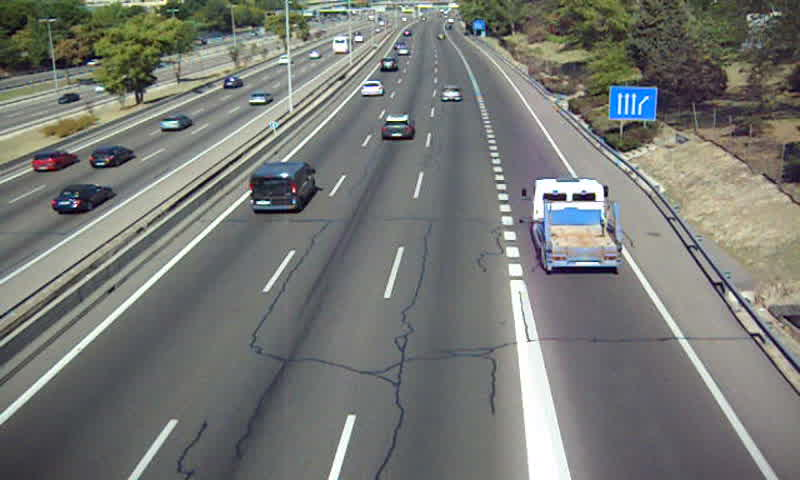car: (382, 114, 412, 141), (440, 85, 464, 104), (359, 80, 383, 97), (379, 57, 398, 72)
small-truck: (533, 178, 625, 273)
van: (248, 162, 315, 212)
